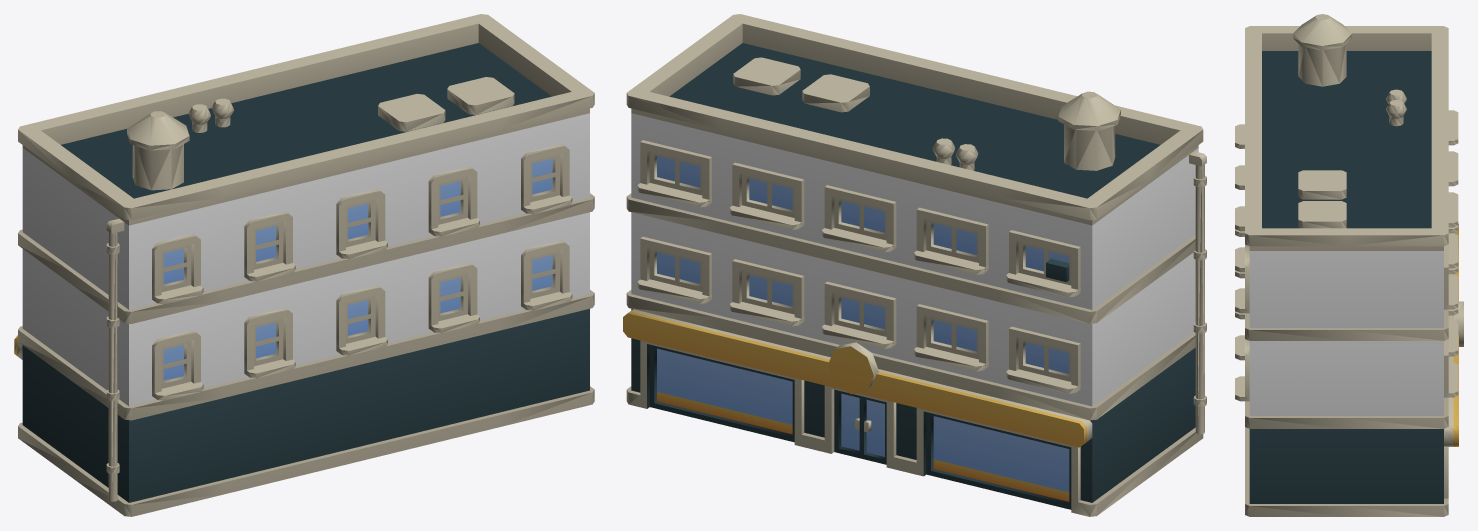
File: building-k.glb
The picture shows the model from 3 angles, left to right: view 1: azimuth 30°, elevation 25°; view 2: azimuth 150°, elevation 25°; view 3: azimuth 270°, elevation 25°; orthographic projection. The views are drawn at different scales.
Parts seen in each view (by area): view 1: building-k; view 2: building-k; view 3: building-k.
Boxes of the visible parts, x1,y1,x2,y2 form: building-k: (14, 14, 594, 516); building-k: (623, 14, 1206, 516); building-k: (1235, 14, 1463, 516).
Bounding box in the file's own units: 20.84 × 14.7 × 9.42.
